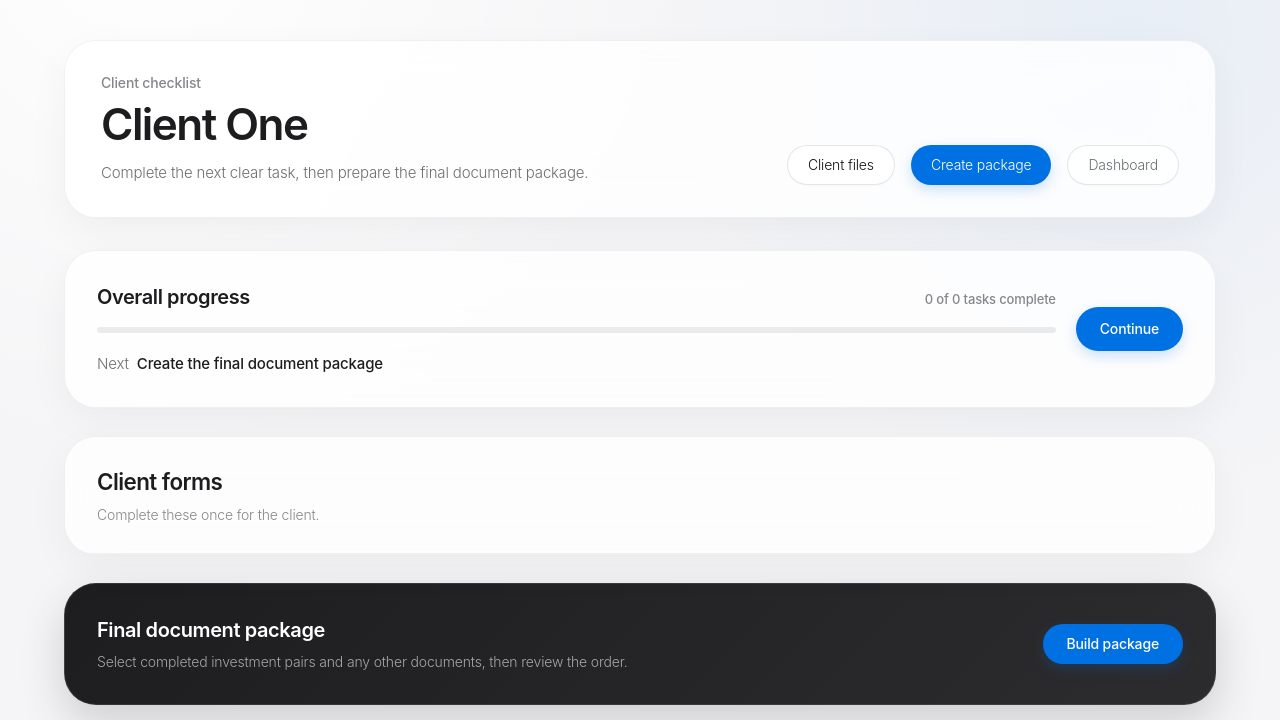
Client forms workspace › groups package documents by source and selects investment PDFs independently
Expected: the heading "Client One" is shown, 101,97 -> 307,151
Click the button "Build package": (1113, 644) 1042,624 -> 1183,664
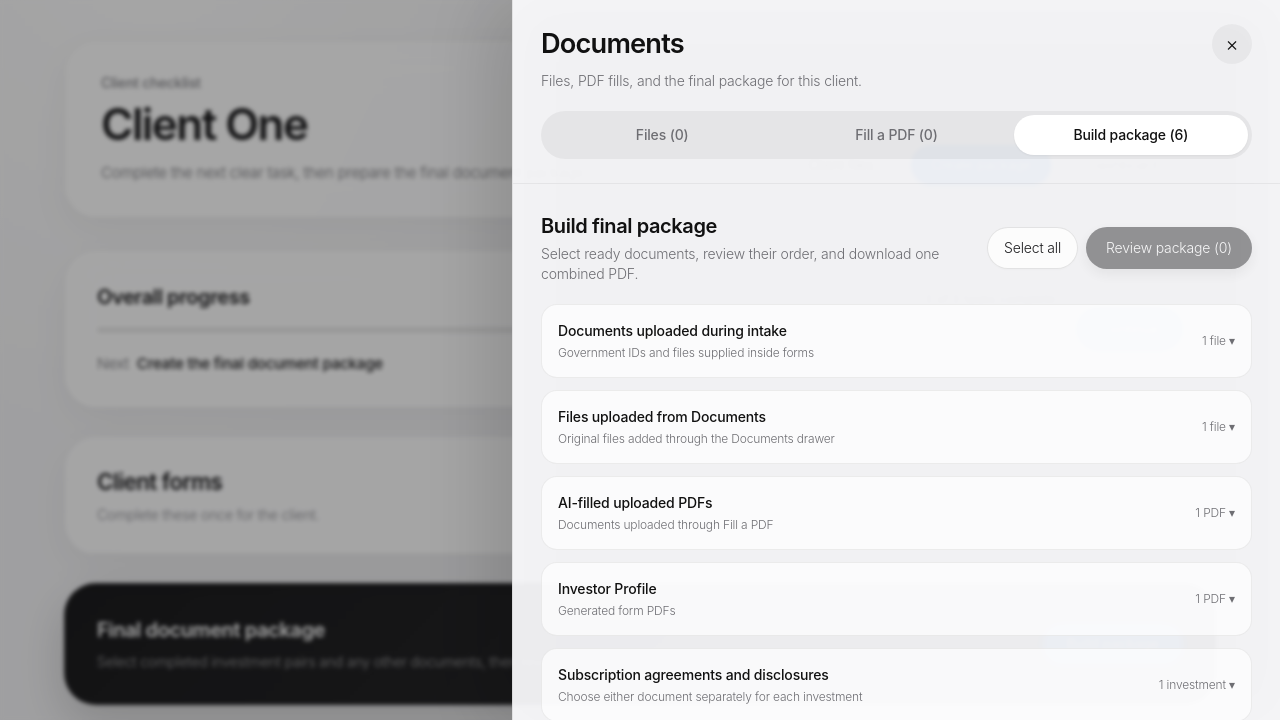
Expected: the text "Documents uploaded during intake" is shown, 558,321 -> 814,341
Expected: the text "Files uploaded from Documents" is shown, 558,408 -> 766,425
Expected: the text "AI-filled uploaded PDFs" is shown, 558,494 -> 712,511
Click the text "Subscription agreements and disclosures": (710, 675) 558,665 -> 862,685
(page scrolled)
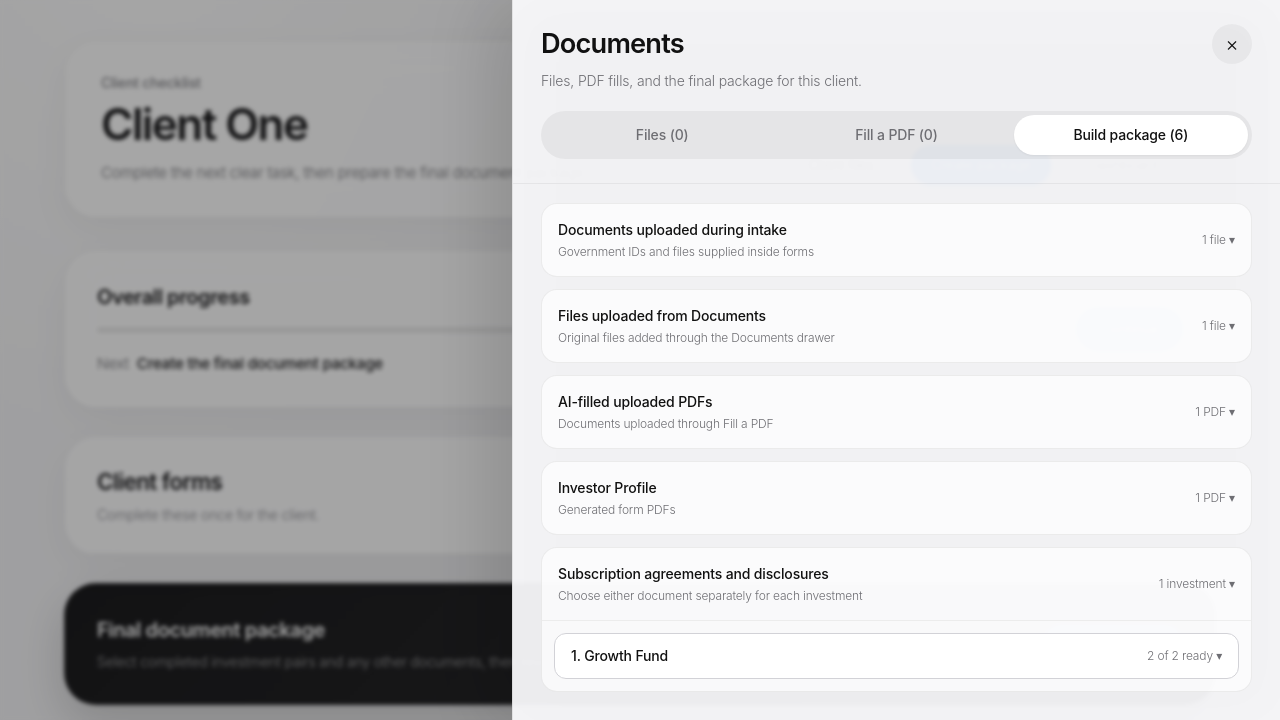
Click the text "1. Growth Fund": (620, 656) 571,646 -> 668,666
(page scrolled)
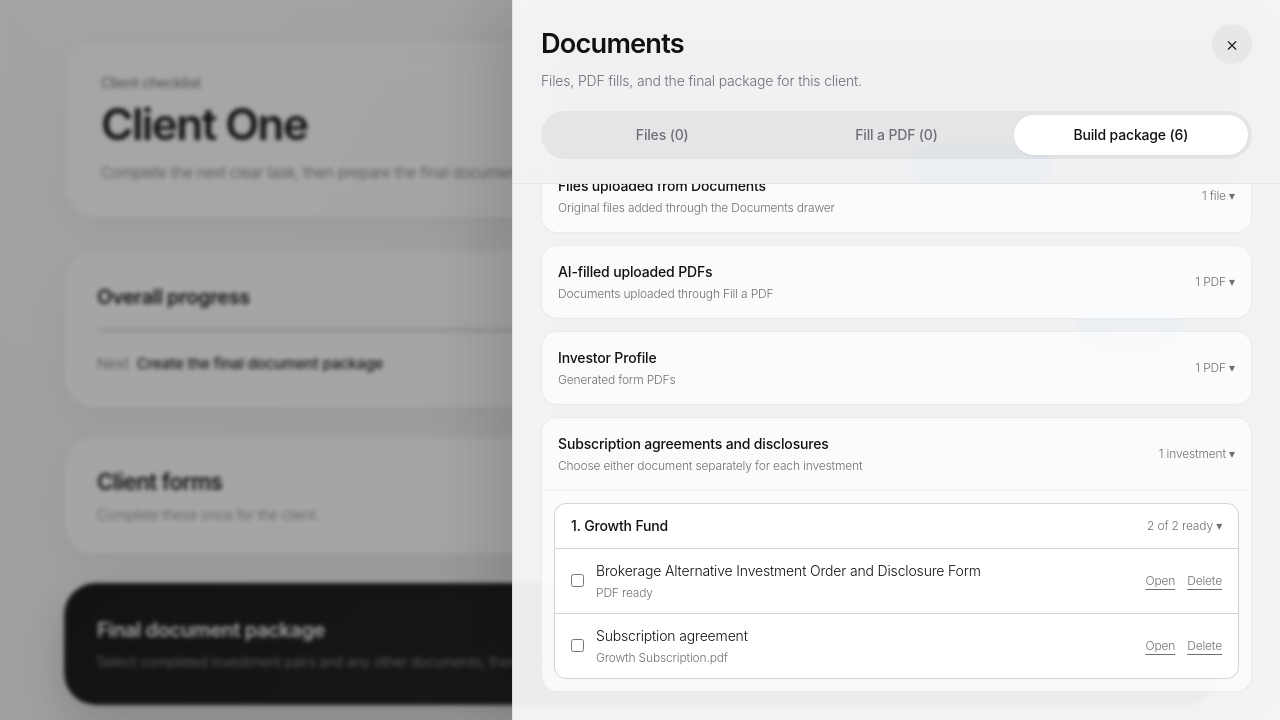
Click the checkbox named "Select Growth Fund subscription agreement": (578, 646) 571,639 -> 584,652
(page scrolled)
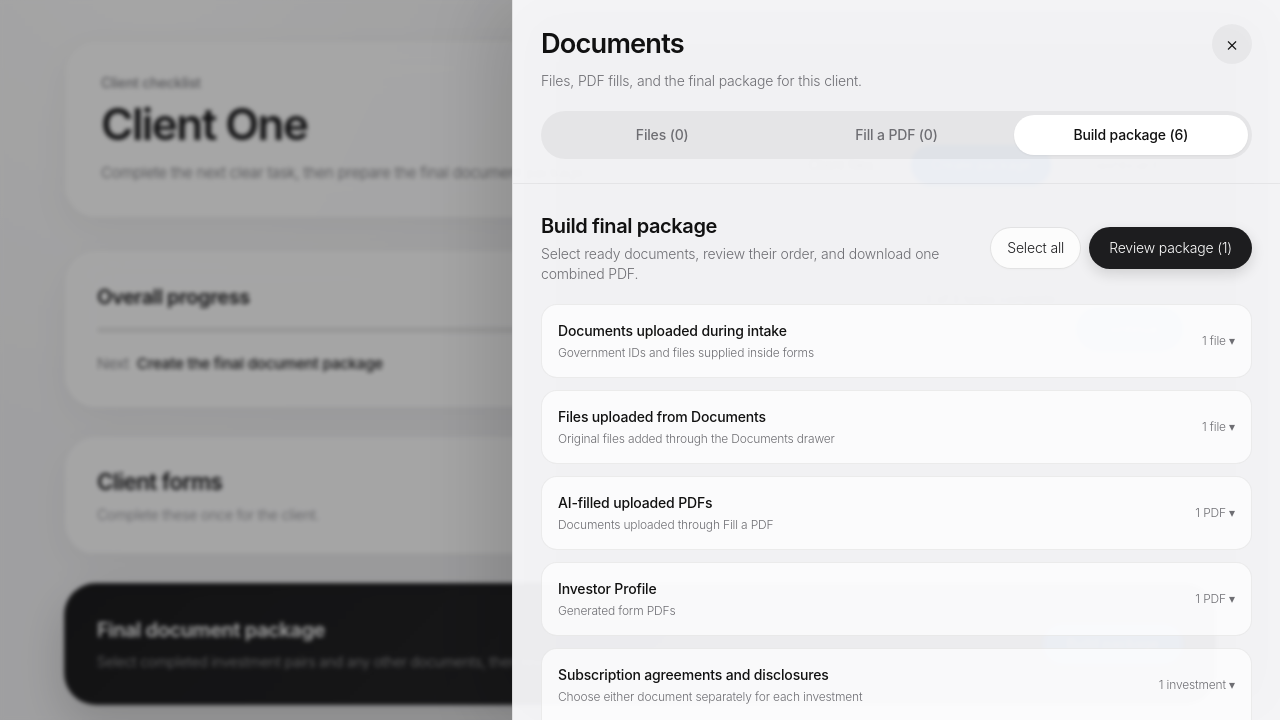
Expected: the button "Review package (1)" is enabled, 1089,227 -> 1252,269
